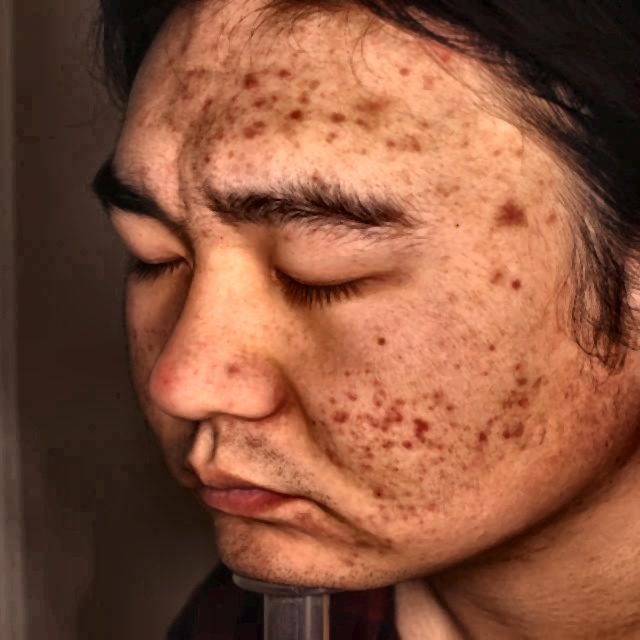papule: (410, 407, 450, 451), (324, 397, 364, 434), (362, 476, 406, 509), (186, 128, 221, 166), (377, 394, 412, 428), (490, 255, 522, 290), (422, 381, 458, 411), (233, 118, 270, 146), (388, 131, 425, 158), (355, 93, 393, 119), (500, 197, 528, 232), (498, 418, 530, 448), (229, 72, 270, 95), (464, 418, 492, 451), (353, 441, 388, 466), (270, 102, 301, 128), (262, 62, 297, 85), (240, 92, 278, 112), (505, 392, 533, 416), (506, 362, 533, 386), (326, 99, 346, 130)
